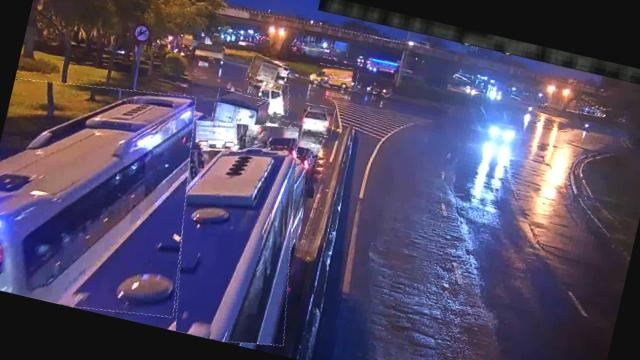Bus: (0, 62, 215, 327), (151, 110, 323, 353), (258, 81, 292, 119)
Car: (298, 102, 336, 138)
Truck: (204, 89, 273, 158), (244, 54, 289, 92), (312, 62, 359, 92)
